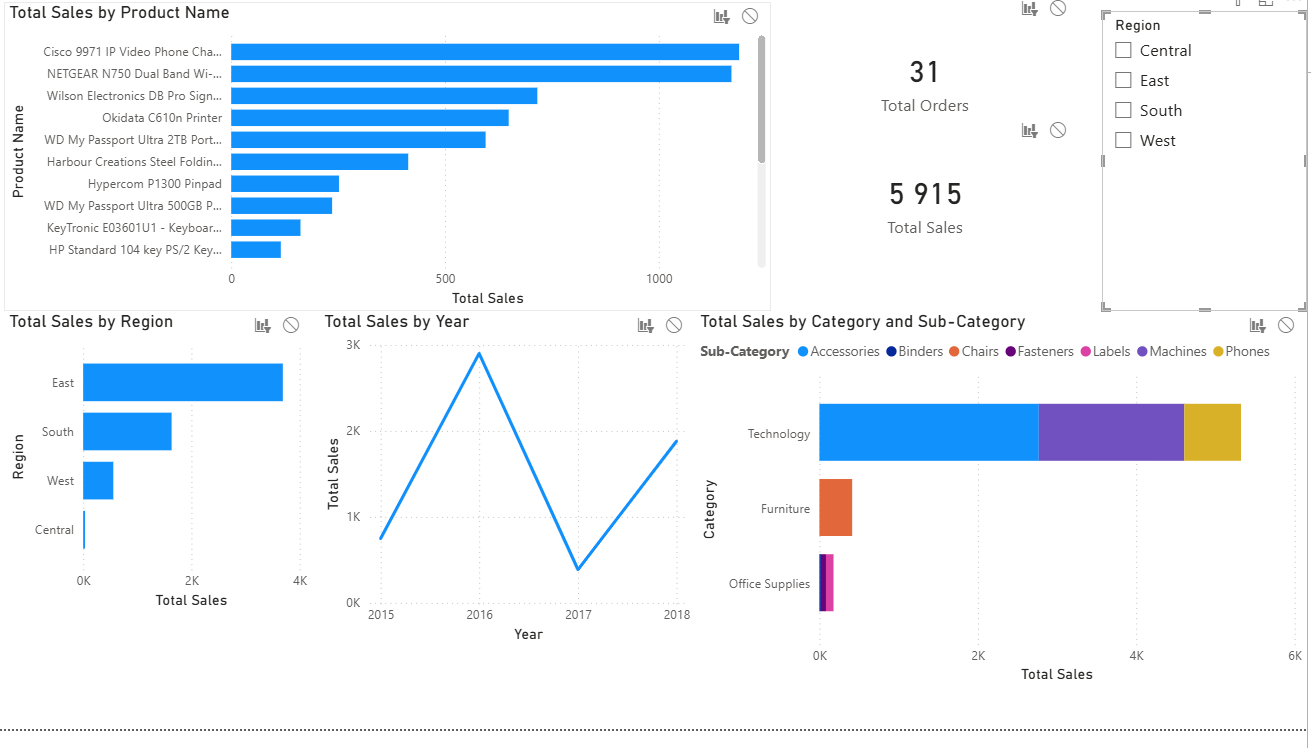

The page's visual inventory and layout, read from the dashboard file:
{"tool":"powerbi","page":{"name":"Page 1","canvas":[1280,720],"ordinal":0},"visuals":[{"type":"card","fields":{"Values":["train (2).Total Orders"]},"box":[758.7,29.2,299.6,118.7],"z":0},{"type":"card","fields":{"Values":["train (2).Total Revenue"]},"box":[758.7,147.8,299.6,118.7],"z":1000},{"type":"lineChart","fields":{"Category":["train (2).Order Date.Variation.Date Hierarchy.Year","train (2).Order Date.Variation.Date Hierarchy.Quarter","train (2).Order Date.Variation.Date Hierarchy.Month","train (2).Order Date.Variation.Date Hierarchy.Day"],"Y":["train (2).Total Revenue"]},"box":[319,313.2,365.7,326.8],"z":2000},{"type":"barChart","fields":{"Category":["train (2).Region"],"Y":["train (2).Total Revenue"]},"box":[12.6,313.2,299.6,293.7],"z":3000},{"type":"barChart","fields":{"Category":["train (2).Product Name"],"Y":["train (2).Total Revenue"]},"box":[12.6,12.6,746,300.5],"z":4000},{"type":"slicer","fields":{"Values":["train (2).Region"]},"box":[1080.6,21.4,199.4,291.8],"z":5000},{"type":"barChart","fields":{"Category":["train (2).Category"],"Y":["train (2).Total Revenue"],"Series":["train (2).Sub-Category"]},"box":[684.7,313.2,595.3,366.7],"z":6000}]}

Visuals, with their boxes in screenshot pixels (x1, y1, x2, y2), scaled from the page's 1280x720 canvas onto the 1311x748 screenshot:
card - train (2).Total Orders: bbox=(777, 30, 1084, 154)
card - train (2).Total Revenue: bbox=(777, 154, 1084, 277)
lineChart - train (2).Order Date.Variation.Date Hierarchy.Year x train (2).Order Date.Variation.Date Hierarchy.Quarter: bbox=(327, 325, 701, 665)
barChart - train (2).Region x train (2).Total Revenue: bbox=(13, 325, 320, 631)
barChart - train (2).Product Name x train (2).Total Revenue: bbox=(13, 13, 777, 325)
slicer - train (2).Region: bbox=(1107, 22, 1310, 325)
barChart - train (2).Category x train (2).Total Revenue: bbox=(701, 325, 1310, 706)
